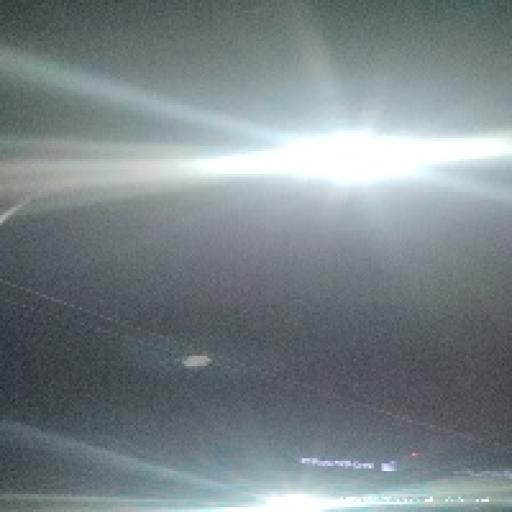Working: (196, 114, 512, 202)
